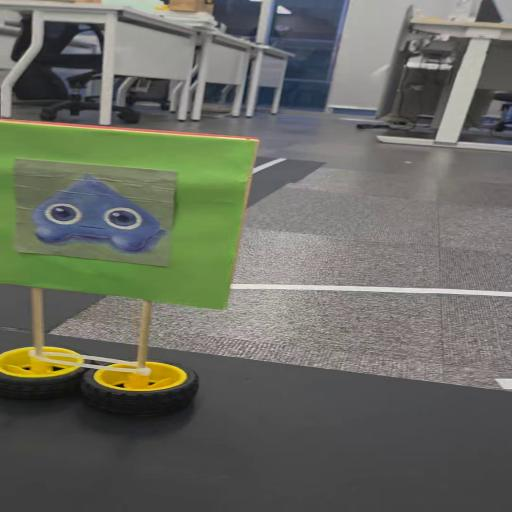Sign_B: (9, 114, 241, 425)
